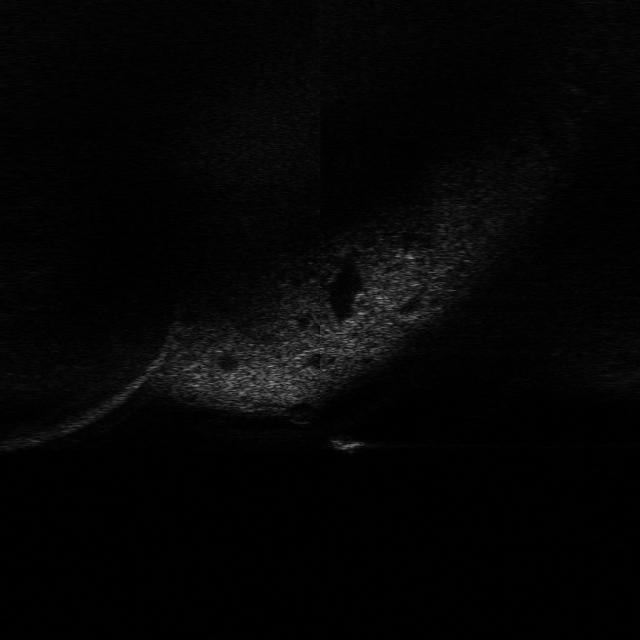cube: (326, 433, 370, 455)
